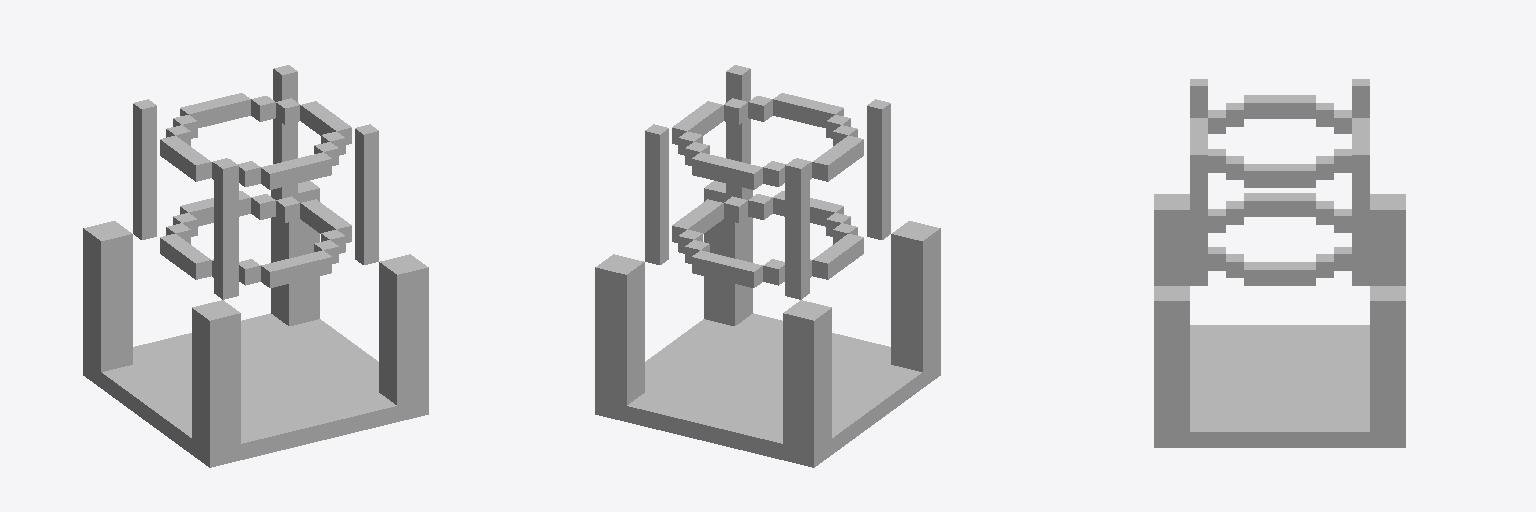
The model's file is pedestalElfArrow.obj.
3 views of the same model, side by side, from view 1: azimuth 30°, elevation 25°; view 2: azimuth 150°, elevation 25°; view 3: azimuth 270°, elevation 25° (orthographic).
Parts seen in each view (by area): view 1: cube0, cube2, cube4, cube3, cube1, a9, cube5, cube6, cube8, a6, a3, a0 (+8 smaller); view 2: cube0, cube1, cube3, cube4, cube2, a3, cube8, cube5, cube7, a6, a9, a0 (+8 smaller); view 3: cube0, cube1, cube2, a0, a6, cube3, cube4, cube6, cube7, a1, a2, a4 (+7 smaller).
Part boxes in pixels (x1,y1,x2,y2): cube0: (83,313,428,467); cube2: (379,254,428,405); cube4: (83,221,132,371); cube3: (192,300,240,450); cube1: (271,181,319,325); a9: (261,152,331,287); cube5: (214,159,238,299); cube6: (355,124,378,264); cube8: (133,99,156,239); a6: (160,135,211,279); a3: (180,93,250,226); a0: (300,101,351,242); cube0: (595,313,940,467); cube1: (595,254,644,405); cube3: (891,221,940,371); cube4: (783,300,831,450); cube2: (704,181,752,325); a3: (692,152,762,287); cube8: (785,159,809,299); cube5: (867,99,890,239); cube7: (645,124,668,264); a6: (812,135,863,279); a9: (773,93,843,226); a0: (672,101,723,242); cube0: (1154,325,1405,447); cube1: (1370,286,1405,431); cube2: (1154,286,1189,431); a0: (1244,164,1315,285); a6: (1244,95,1315,216); cube3: (1154,194,1189,285); cube4: (1370,194,1405,285); cube6: (1190,147,1207,285); cube7: (1352,147,1369,285); a1: (1316,156,1333,277); a2: (1334,149,1351,270); a4: (1334,110,1351,232).
Bounding box in the file's own units: 0.875 × 1.06 × 0.875.